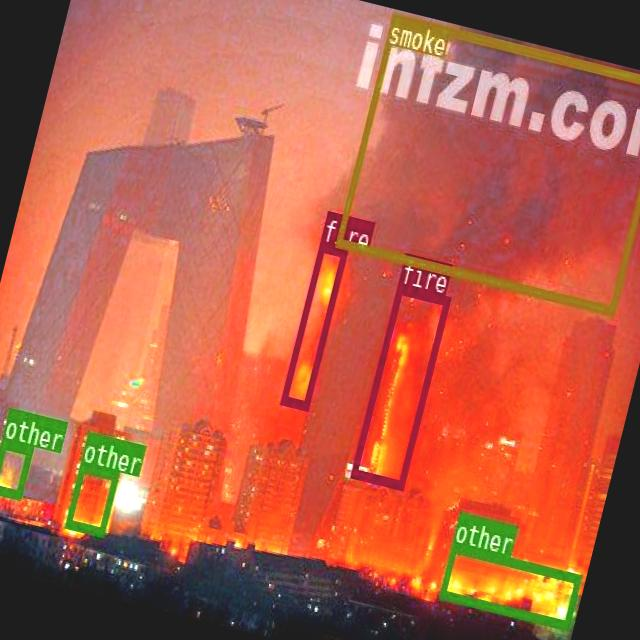fire: (349, 282, 449, 487), (280, 240, 347, 408)
smoke: (335, 11, 640, 313)
